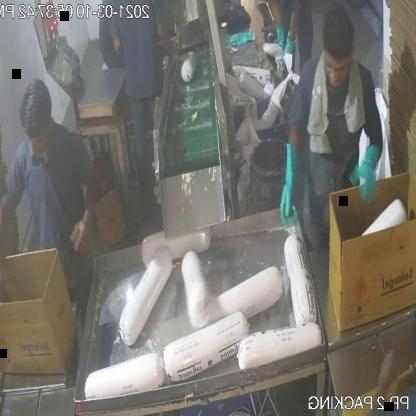no_glove: (68, 165, 100, 263), (0, 183, 15, 306)
